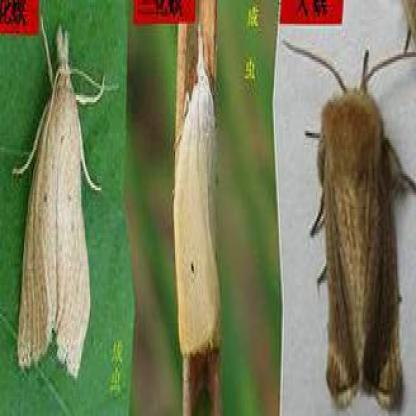stem-borer: (282, 34, 416, 412), (10, 19, 120, 384), (172, 28, 222, 360)
